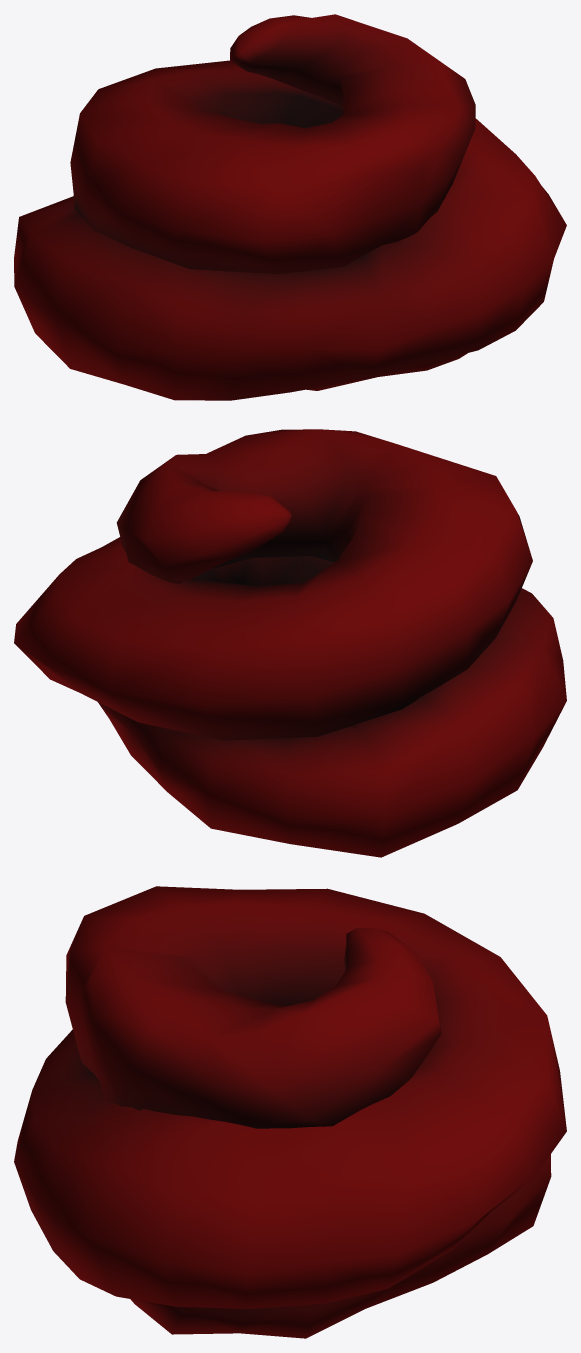
File: AnimalParts_Turd.fbx
3 views of the same model, one above another, from view 1: azimuth 30°, elevation 25°; view 2: azimuth 150°, elevation 25°; view 3: azimuth 270°, elevation 25° (orthographic). The views are drawn at different scales.
Visible parts, largest first — view 1: Turd; view 2: Turd; view 3: Turd.
Part boxes in pixels (<box>): Turd: <box>14,14,566,400</box>; Turd: <box>14,429,566,857</box>; Turd: <box>14,886,566,1338</box>.
Bounding box in the file's own units: 54.4 × 31.59 × 47.67.
